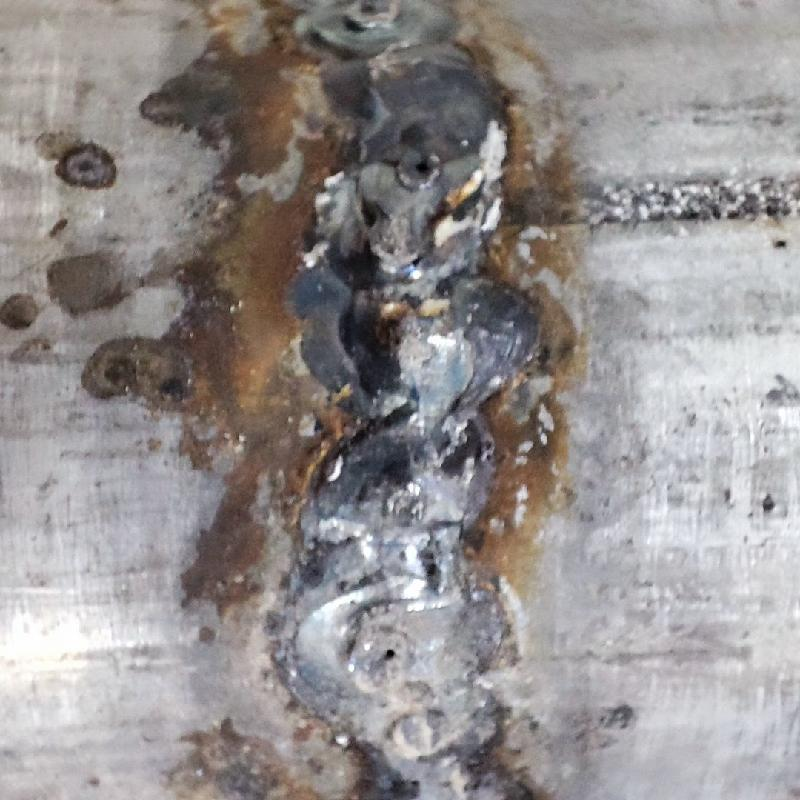Not_fully_soldered: (290, 523, 518, 796)
Surface_pores: (400, 156, 450, 189), (373, 634, 410, 677)
wrong_size: (290, 5, 537, 528)
